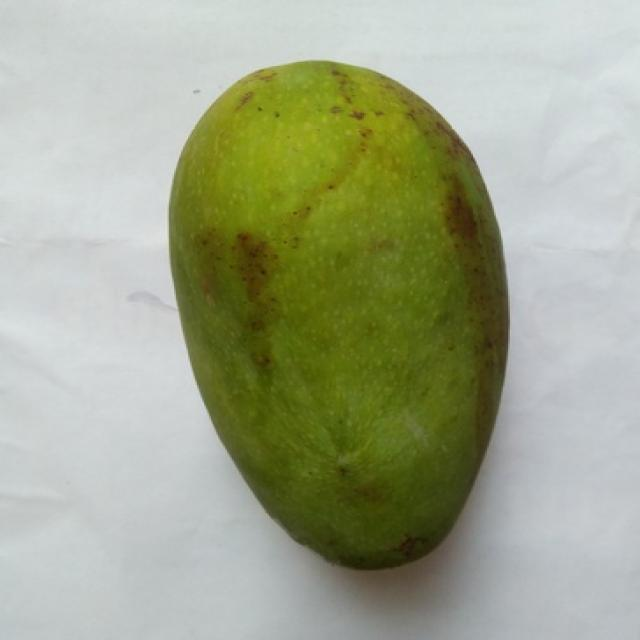Mango: (171, 62, 505, 568)
